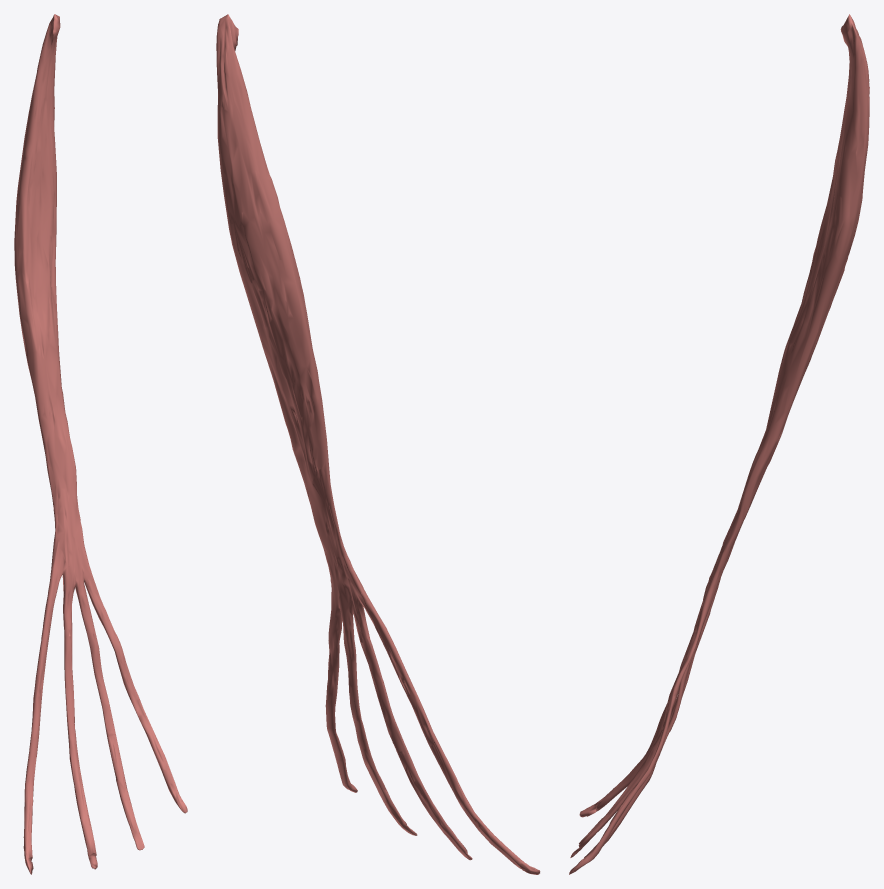
3 views of the same model, side by side, from view 1: azimuth 30°, elevation 25°; view 2: azimuth 150°, elevation 25°; view 3: azimuth 270°, elevation 25° (orthographic). The views are drawn at different scales.
Visible parts, largest first — view 1: ZA_f4ebdfd665b789c3; view 2: ZA_f4ebdfd665b789c3; view 3: ZA_f4ebdfd665b789c3.
Boxes of the visible parts, x1,y1,x2,y2 form: ZA_f4ebdfd665b789c3: [14, 14, 187, 874]; ZA_f4ebdfd665b789c3: [216, 14, 540, 874]; ZA_f4ebdfd665b789c3: [569, 14, 869, 874].
Bounding box in the file's own units: 0.0853 × 0.3946 × 0.121.
